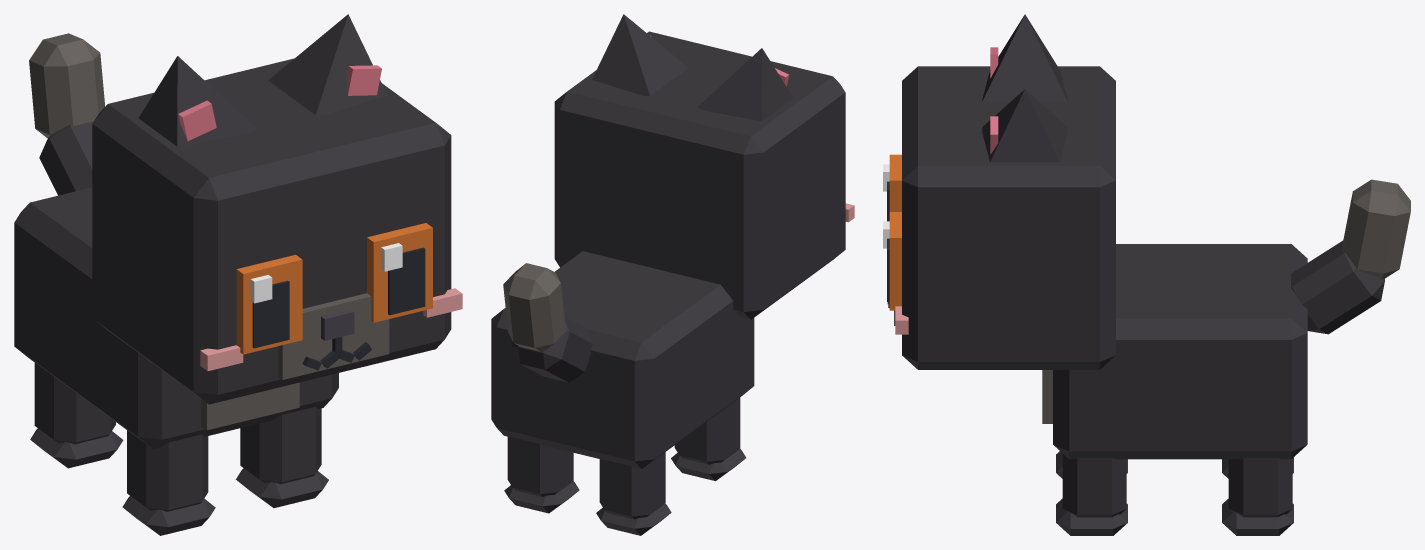
The model's file is CatCafe_Cat_Soot.glb.
The picture shows the model from 3 angles, left to right: view 1: azimuth 30°, elevation 25°; view 2: azimuth 150°, elevation 25°; view 3: azimuth 270°, elevation 25°; orthographic projection. The views are drawn at different scales.
Visible parts, largest first — view 1: CatCafe_Cat_Soot_Head, CatCafe_Cat_Soot_Body, CatCafe_Cat_Soot_Tail, CatCafe_Cat_Soot_LegF2, CatCafe_Cat_Soot_LegF1, CatCafe_Cat_Soot_EarL, CatCafe_Cat_Soot_Eye2, CatCafe_Cat_Soot_LegB2, CatCafe_Cat_Soot_Eye1, CatCafe_Cat_Soot_EarR; view 2: CatCafe_Cat_Soot_Head, CatCafe_Cat_Soot_Body, CatCafe_Cat_Soot_Tail, CatCafe_Cat_Soot_LegB2, CatCafe_Cat_Soot_EarL, CatCafe_Cat_Soot_LegB1, CatCafe_Cat_Soot_EarR, CatCafe_Cat_Soot_LegF2; view 3: CatCafe_Cat_Soot_Head, CatCafe_Cat_Soot_Body, CatCafe_Cat_Soot_Tail, CatCafe_Cat_Soot_LegF1, CatCafe_Cat_Soot_LegB1, CatCafe_Cat_Soot_EarL, CatCafe_Cat_Soot_EarR, CatCafe_Cat_Soot_Eye1, CatCafe_Cat_Soot_Eye2.
Boxes of the visible parts, x1,y1,x2,y2 form: CatCafe_Cat_Soot_Head: (92,58,462,404); CatCafe_Cat_Soot_Body: (14,187,338,449); CatCafe_Cat_Soot_Tail: (29,33,105,195); CatCafe_Cat_Soot_LegF2: (122,430,215,535); CatCafe_Cat_Soot_LegF1: (236,406,328,507); CatCafe_Cat_Soot_EarL: (268,14,387,115); CatCafe_Cat_Soot_Eye2: (236,254,302,354); CatCafe_Cat_Soot_LegB2: (30,362,123,468); CatCafe_Cat_Soot_Eye1: (367,223,432,322); CatCafe_Cat_Soot_EarR: (138,56,257,146); CatCafe_Cat_Soot_Head: (554,31,854,319); CatCafe_Cat_Soot_Body: (491,251,754,469); CatCafe_Cat_Soot_Tail: (503,263,592,382); CatCafe_Cat_Soot_LegB2: (596,452,671,535); CatCafe_Cat_Soot_EarL: (592,14,688,95); CatCafe_Cat_Soot_LegB1: (504,437,579,513); CatCafe_Cat_Soot_EarR: (697,48,793,121); CatCafe_Cat_Soot_LegF2: (671,397,746,481); CatCafe_Cat_Soot_Head: (887,66,1115,369); CatCafe_Cat_Soot_Body: (1042,244,1307,459); CatCafe_Cat_Soot_Tail: (1291,179,1410,334); CatCafe_Cat_Soot_LegF1: (1056,454,1127,535); CatCafe_Cat_Soot_LegB1: (1222,458,1293,535); CatCafe_Cat_Soot_EarL: (982,89,1067,162); CatCafe_Cat_Soot_EarR: (982,14,1067,101); CatCafe_Cat_Soot_Eye1: (883,212,901,310); CatCafe_Cat_Soot_Eye2: (883,154,901,221).
Bounding box in the file's own units: 1 × 1.86 × 1.97.
1 material, 1 textured.
